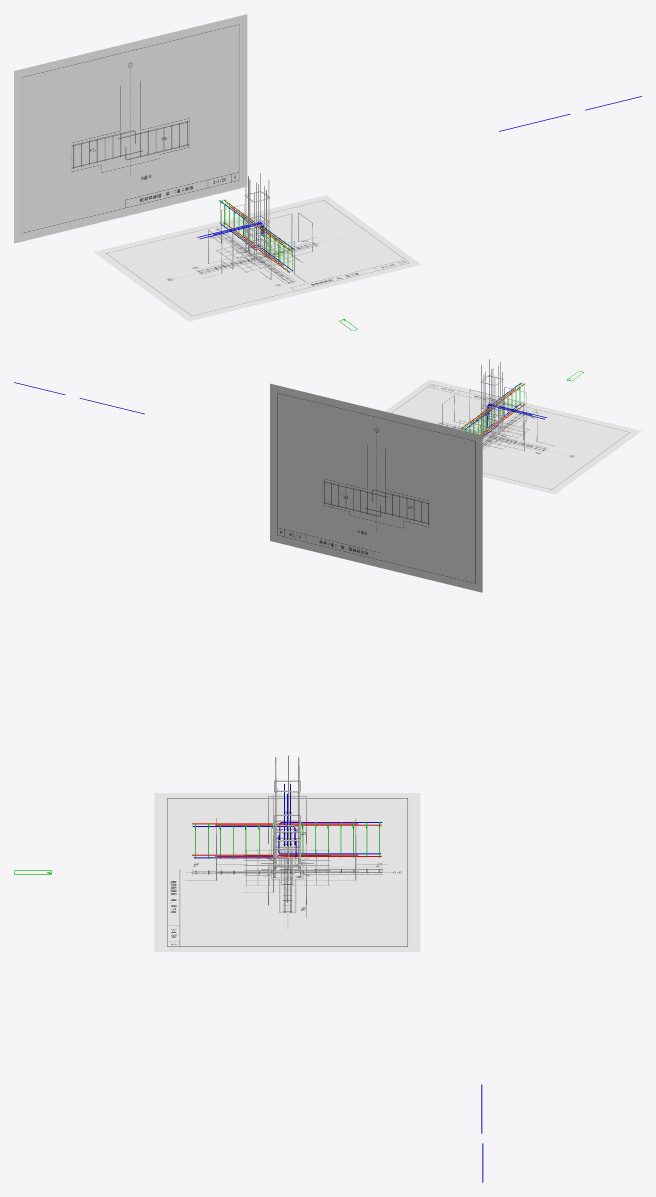
3 views of the same model, one above another, from view 1: azimuth 30°, elevation 25°; view 2: azimuth 150°, elevation 25°; view 3: azimuth 270°, elevation 25° (orthographic). The views are drawn at different scales.
Visible parts, largest first — view 1: 平面.001, 平面, 1360.012; view 2: 平面.001, 平面, 1360.012; view 3: 平面, 1360.012.
Boxes of the visible parts, x1=… form: 平面.001: x1=14, y1=14, x2=247, y2=243; 平面: x1=94, y1=195, x2=421, y2=321; 1360.012: x1=216, y1=237, x2=298, y2=272; 平面.001: x1=270, y1=383, x2=482, y2=592; 平面: x1=385, y1=379, x2=641, y2=494; 1360.012: x1=466, y1=418, x2=529, y2=449; 平面: x1=154, y1=793, x2=420, y2=951; 1360.012: x1=244, y1=849, x2=330, y2=885.
Size of the model in its own units: 14540 by 4200 by 9918.
9 materials, 2 textured.
